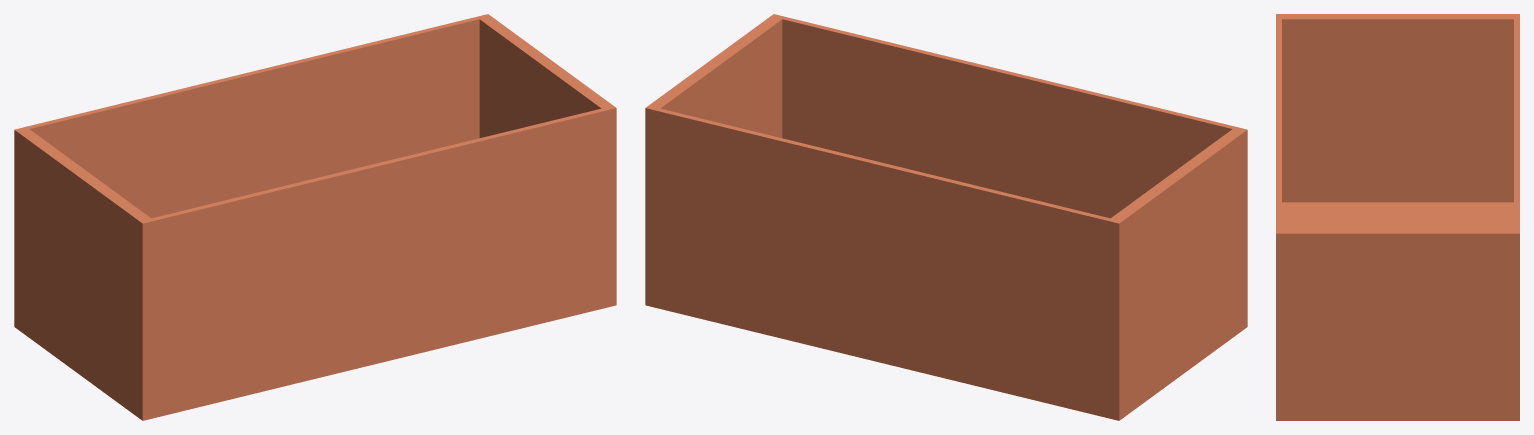
File: closet bottom shelf.fbx
3 renders of one model, left to right at view 1: azimuth 30°, elevation 25°; view 2: azimuth 150°, elevation 25°; view 3: azimuth 270°, elevation 25°, orthographic. The views are drawn at different scales.
Visible parts, largest first — view 1: bottom; view 2: bottom; view 3: bottom.
Part boxes in pixels (left/top/right/bottom): bottom: left=14, top=14, right=616, bottom=420; bottom: left=645, top=14, right=1247, bottom=420; bottom: left=1276, top=14, right=1519, bottom=420.
Size of the model in its own units: 389 by 155 by 183.
